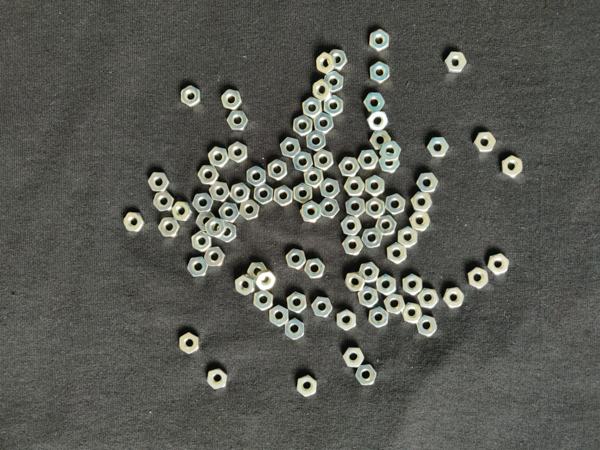nut: (488, 253, 510, 277), (444, 52, 467, 74), (502, 155, 523, 179), (376, 274, 398, 296), (355, 365, 378, 386), (314, 112, 335, 135), (474, 132, 496, 153), (428, 137, 450, 158), (443, 288, 465, 309), (418, 289, 440, 310), (417, 315, 438, 337), (380, 141, 402, 162), (376, 215, 398, 236), (365, 175, 386, 197), (255, 270, 277, 291), (153, 191, 175, 212), (387, 242, 407, 265), (403, 274, 423, 297), (369, 306, 389, 329), (285, 318, 305, 341), (182, 85, 202, 108), (402, 303, 423, 324), (385, 294, 406, 315), (358, 287, 379, 308), (339, 157, 360, 178), (343, 235, 364, 256), (314, 149, 335, 170), (280, 137, 301, 158), (312, 297, 333, 318), (207, 369, 228, 390), (222, 89, 243, 110), (469, 267, 489, 289), (410, 211, 432, 231), (360, 262, 380, 284), (345, 272, 367, 292), (370, 30, 390, 52), (364, 92, 386, 112), (367, 111, 389, 131), (370, 130, 392, 150), (379, 153, 401, 173), (366, 198, 386, 220), (341, 216, 363, 236), (343, 348, 365, 368), (293, 115, 313, 137), (304, 167, 324, 189), (298, 375, 318, 397), (287, 292, 307, 314), (180, 333, 200, 355), (227, 111, 249, 131), (209, 146, 229, 168), (192, 231, 212, 253), (123, 212, 145, 232), (317, 52, 336, 75), (412, 192, 433, 212), (399, 227, 419, 248), (386, 194, 406, 215), (362, 228, 383, 248), (337, 310, 357, 331), (328, 49, 348, 70), (303, 97, 323, 118), (293, 152, 314, 172), (268, 160, 288, 181), (254, 290, 274, 311), (240, 200, 260, 221), (199, 165, 220, 185), (219, 203, 240, 223), (210, 182, 231, 202), (193, 193, 214, 213), (205, 218, 226, 238), (205, 247, 226, 267), (188, 257, 209, 277), (172, 201, 192, 222), (159, 217, 180, 237), (417, 173, 439, 192), (371, 62, 390, 84), (346, 196, 365, 218), (325, 71, 344, 93), (313, 79, 332, 101), (307, 130, 326, 152), (303, 201, 322, 223), (255, 183, 274, 205), (270, 305, 289, 327), (218, 221, 237, 243), (320, 178, 340, 198), (305, 259, 325, 279), (231, 184, 251, 204), (197, 212, 217, 232), (324, 96, 343, 117), (320, 199, 341, 218), (247, 166, 266, 187), (287, 249, 306, 270), (236, 275, 255, 296), (229, 142, 248, 163), (149, 173, 170, 192), (359, 150, 379, 169), (345, 177, 365, 196), (294, 183, 312, 204), (275, 186, 293, 207), (248, 263, 267, 280)
